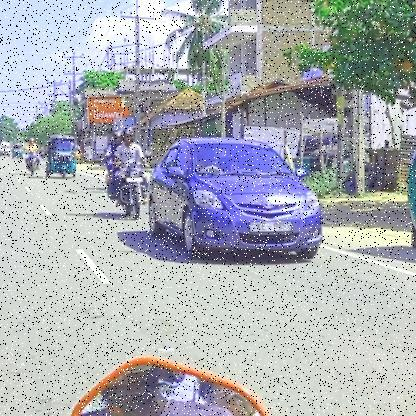motorcycle: (102, 161, 151, 227)
